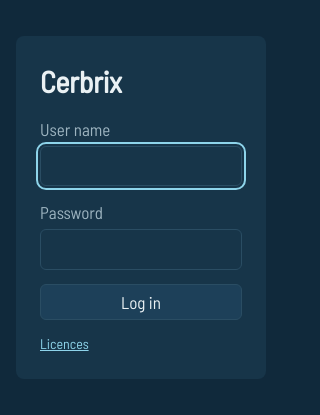
Scenario: LoginPage › says the server cannot be reached for any other failure
Type "anna" into the field labelled "User name". click: (141, 166)
box: [40,146,242,186]
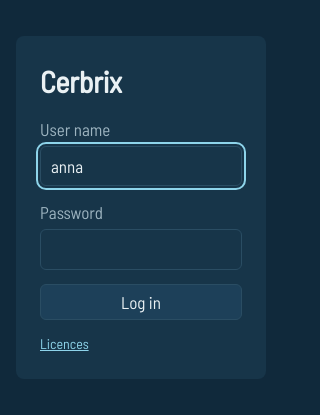
Type "secret-password" into the password field labelled "Password". click: (141, 249)
box: [40,229,242,270]
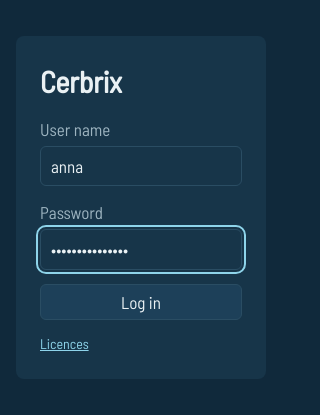
Click the button "Log in". click: (141, 302)
box: [40,284,242,320]
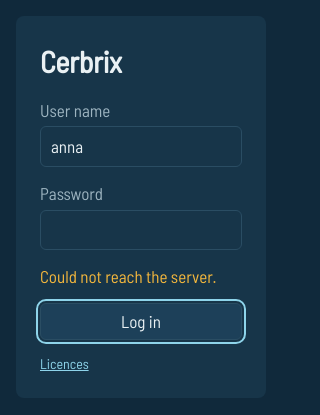
Now the text "Could not reach the server." is shown, box [40,264,242,289]
